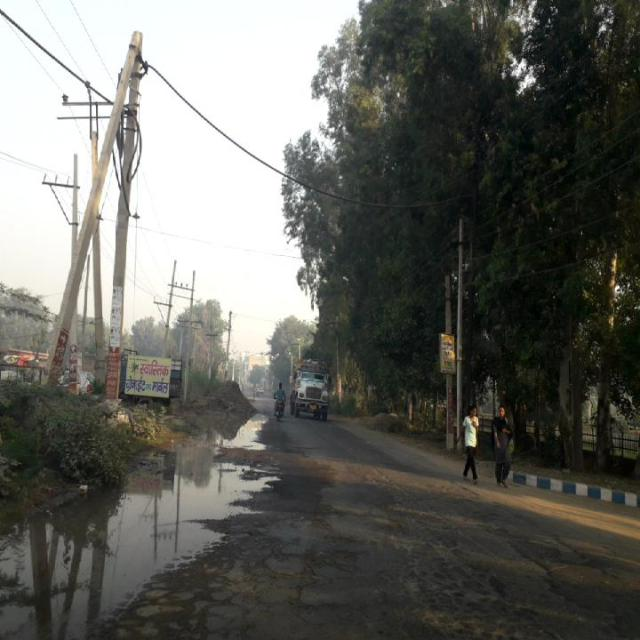Surface Erosion: (40, 354, 640, 640)
